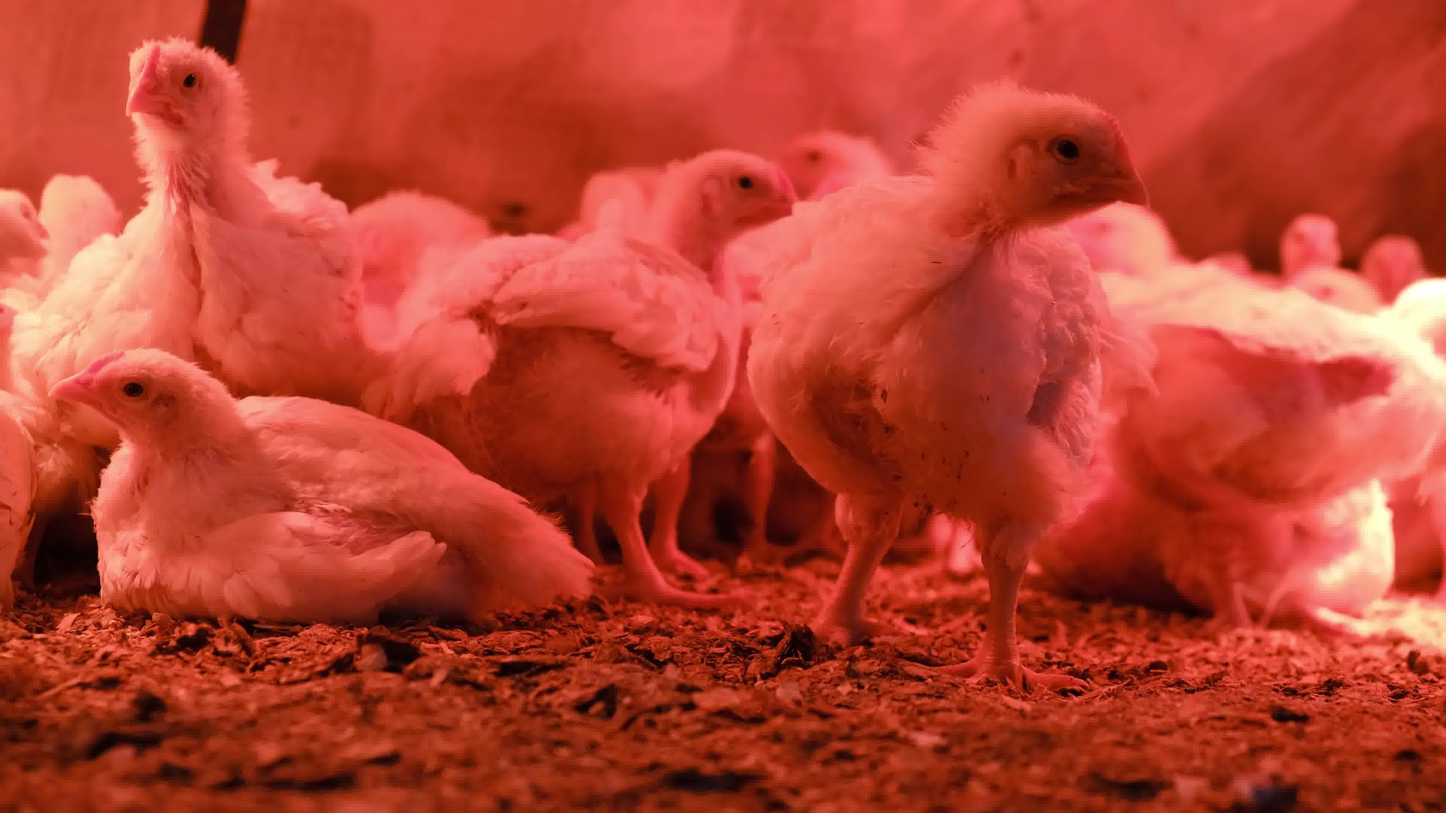AbNormal: (11, 324, 574, 621)
Normal: (746, 87, 1216, 696), (401, 137, 791, 604), (1120, 260, 1446, 629), (34, 15, 373, 358), (1275, 199, 1363, 282)
